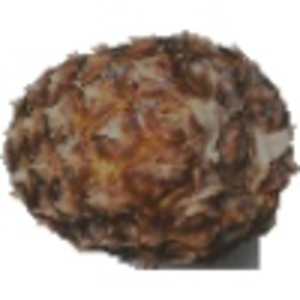abacaxi: (9, 22, 297, 255)
